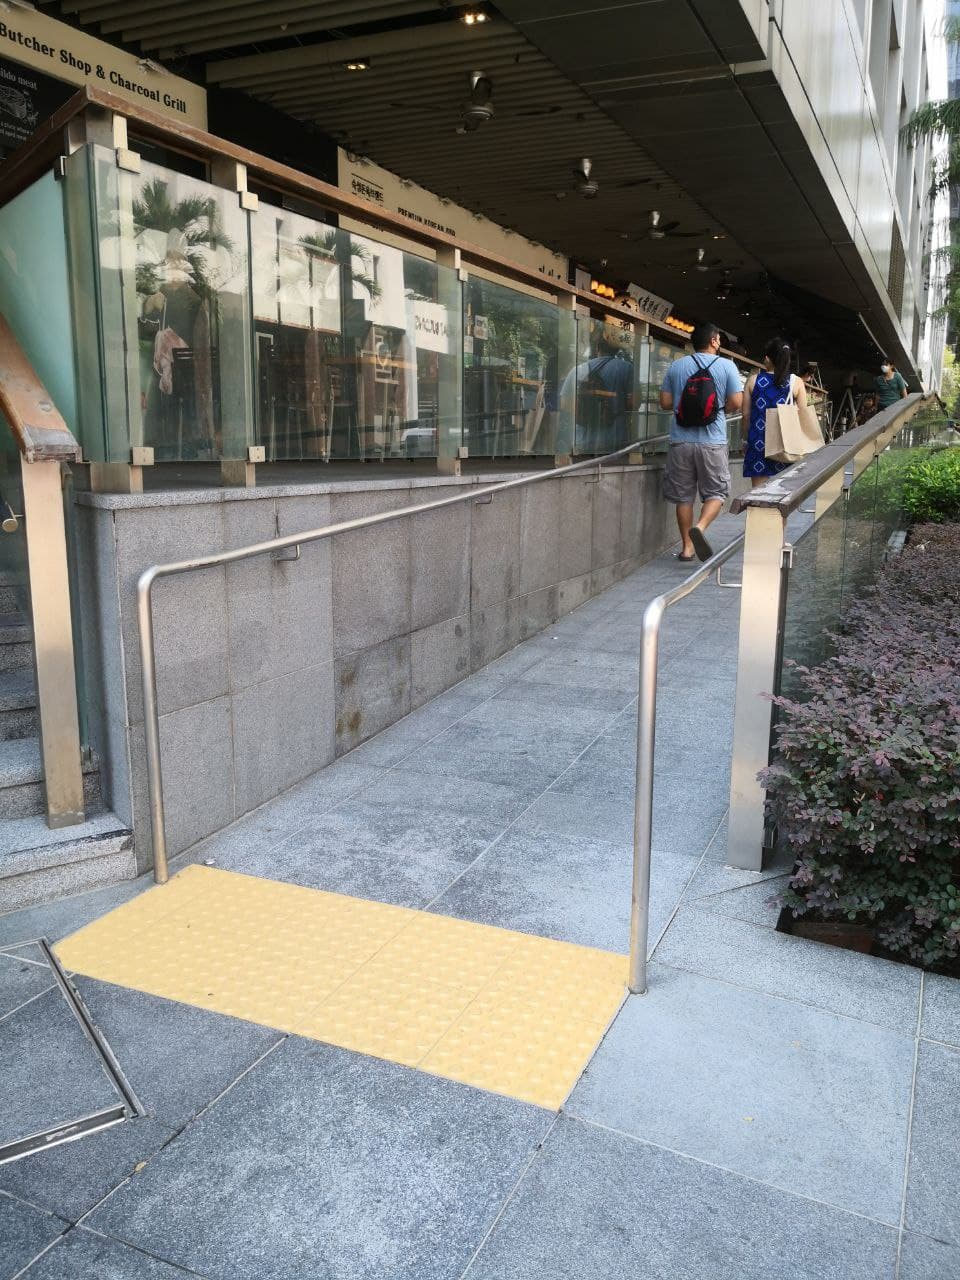slopes: (55, 446, 914, 1133)
